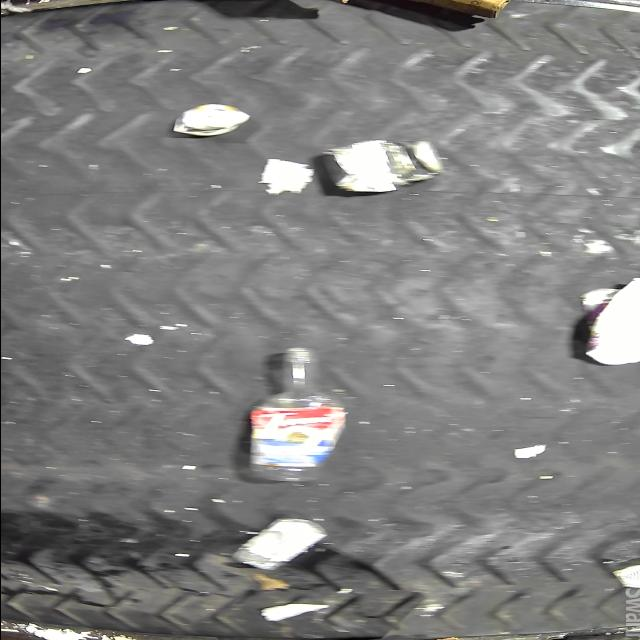can: (323, 138, 445, 192), (173, 104, 250, 138)
plastic_bottle: (249, 349, 349, 479)
